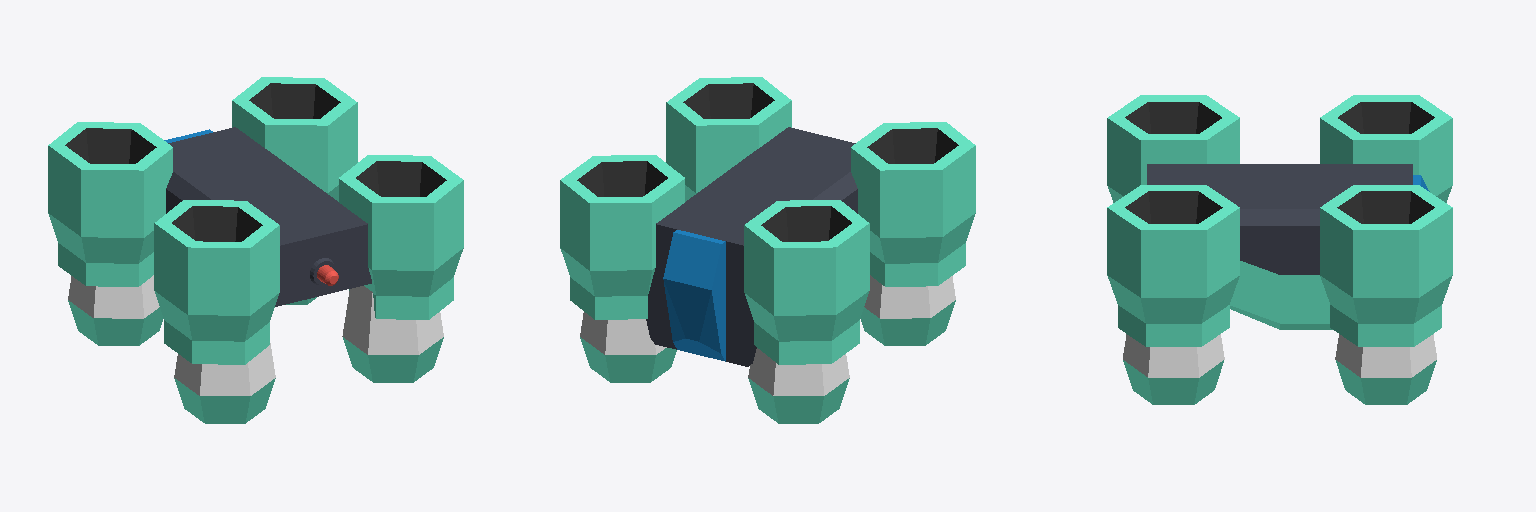
Rendered from drone_reactor.model.obj.
The picture shows the model from 3 angles: view 1: azimuth 30°, elevation 25°; view 2: azimuth 150°, elevation 25°; view 3: azimuth 270°, elevation 25°; orthographic projection.
Size of the model in its own units: 2.4 by 1.55 by 2.6.